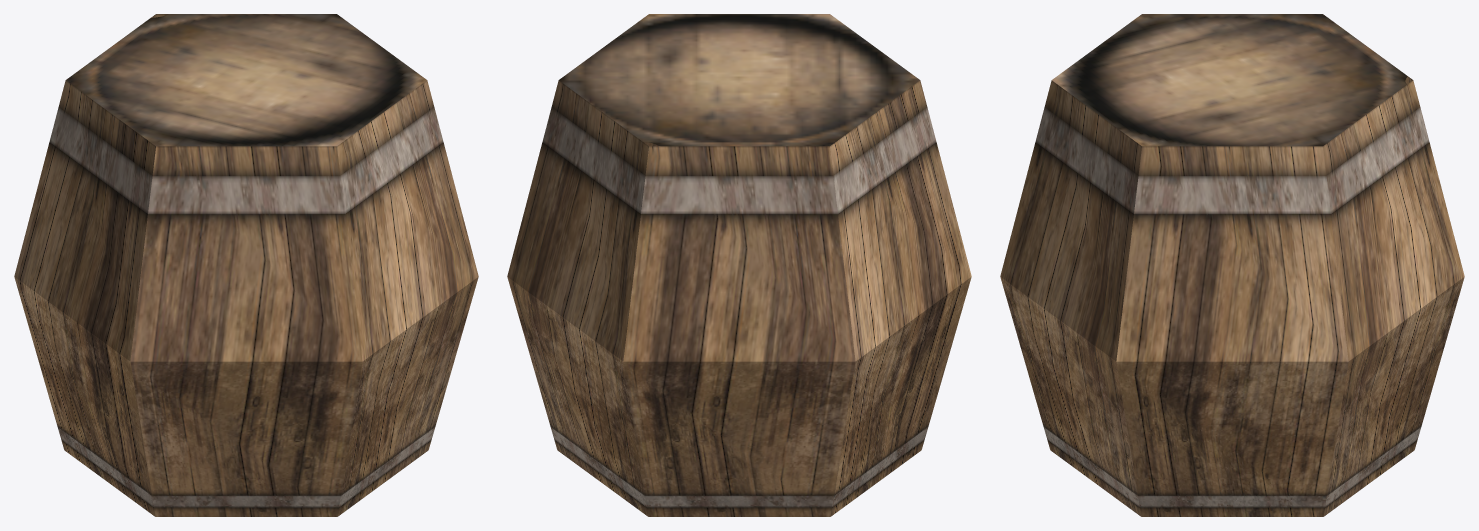
File: Wooden Barrel .fbx
3 views of the same model, side by side, from view 1: azimuth 30°, elevation 25°; view 2: azimuth 150°, elevation 25°; view 3: azimuth 270°, elevation 25° (orthographic).
Parts seen in each view (by area): view 1: Cylinder; view 2: Cylinder; view 3: Cylinder.
Boxes of the visible parts, bbox=[...] form: Cylinder: bbox=[14, 14, 478, 516]; Cylinder: bbox=[507, 14, 971, 516]; Cylinder: bbox=[1000, 14, 1464, 516].
Size of the model in its own units: 102 by 103 by 117.
